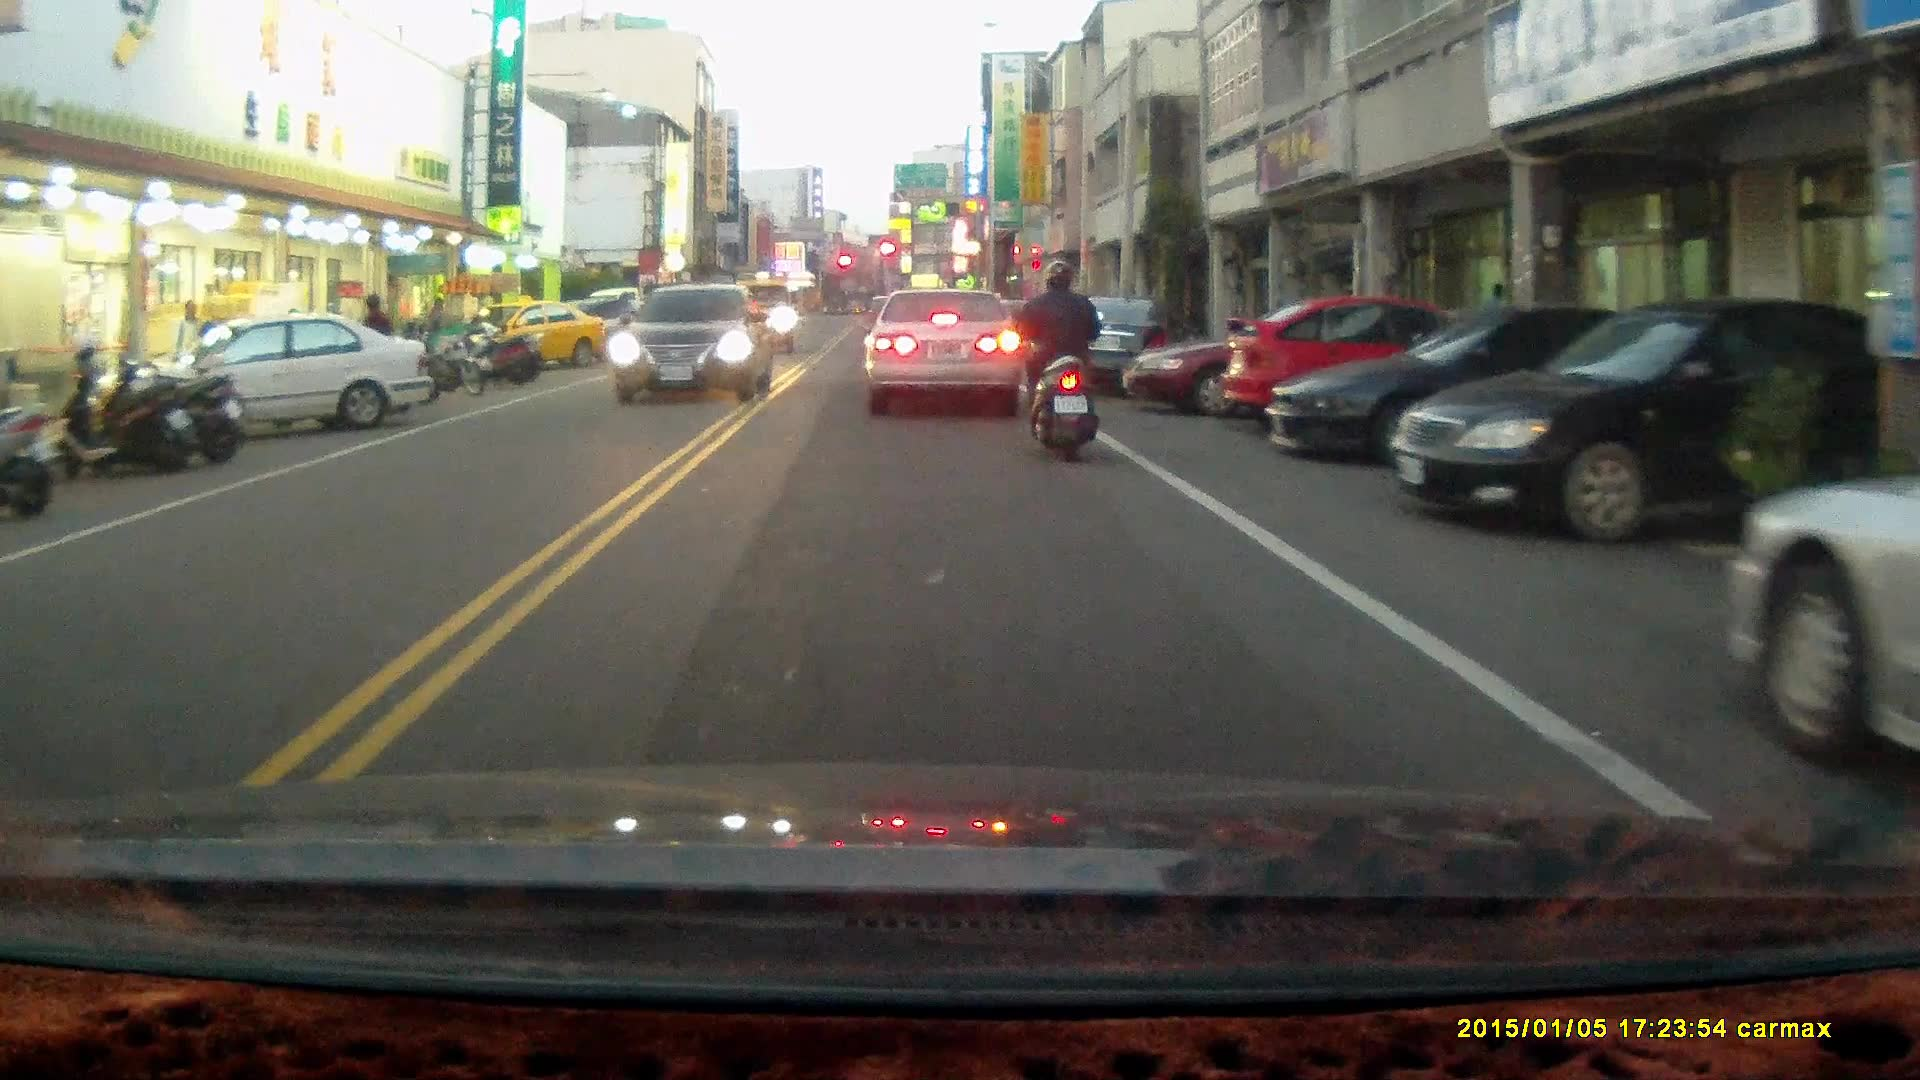pedestrian: (356, 291, 392, 389), (170, 297, 206, 394)
rider: (1009, 258, 1102, 467)
vehicle: (1389, 296, 1881, 545), (1717, 365, 1920, 805), (1271, 310, 1683, 477), (98, 310, 429, 446), (1217, 296, 1502, 438), (1122, 305, 1448, 423), (865, 288, 1027, 422), (610, 282, 772, 408), (1040, 295, 1178, 398), (491, 306, 614, 381)
